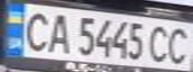4: (90, 16, 115, 57), (112, 18, 133, 60)
5: (72, 14, 96, 56), (127, 19, 148, 61)
A: (42, 10, 75, 54)
C: (18, 8, 54, 53), (163, 25, 193, 65), (145, 22, 172, 64)
